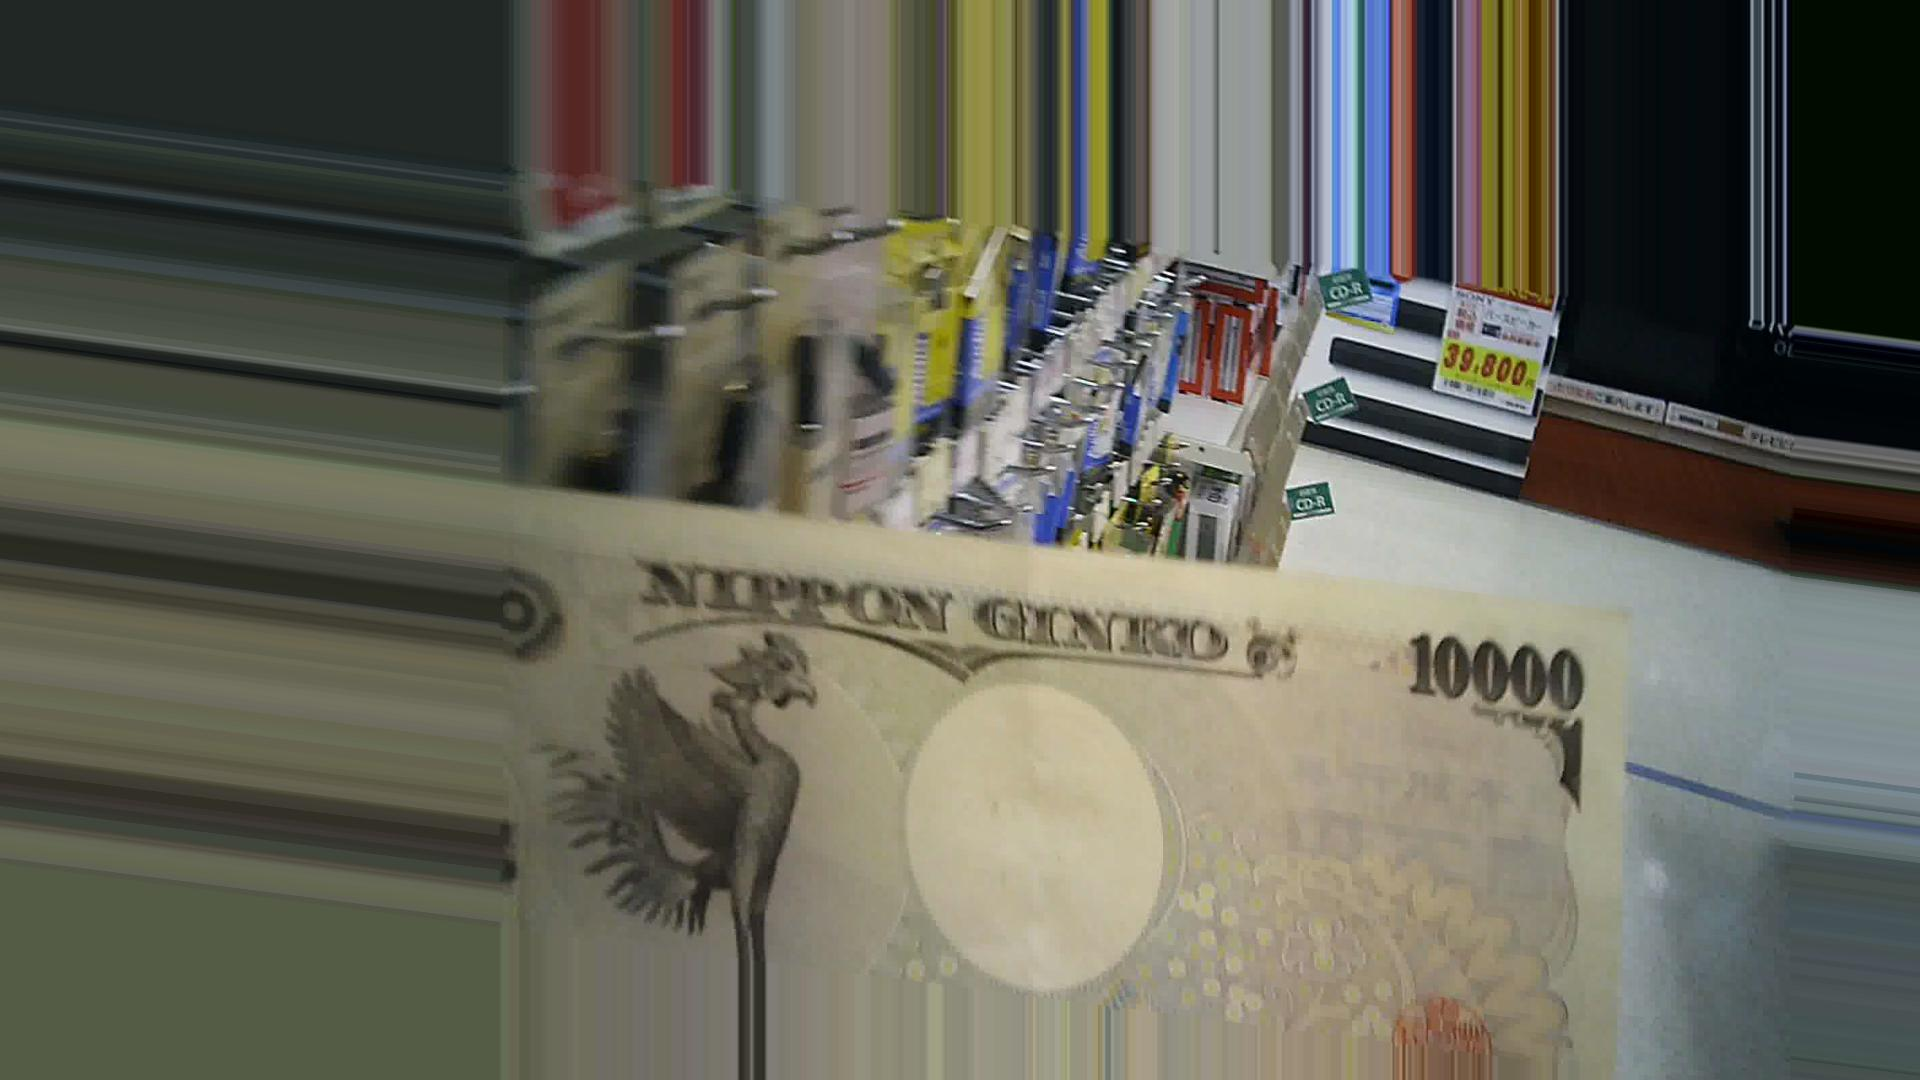10,000 Yen: (510, 471, 1644, 1079)
